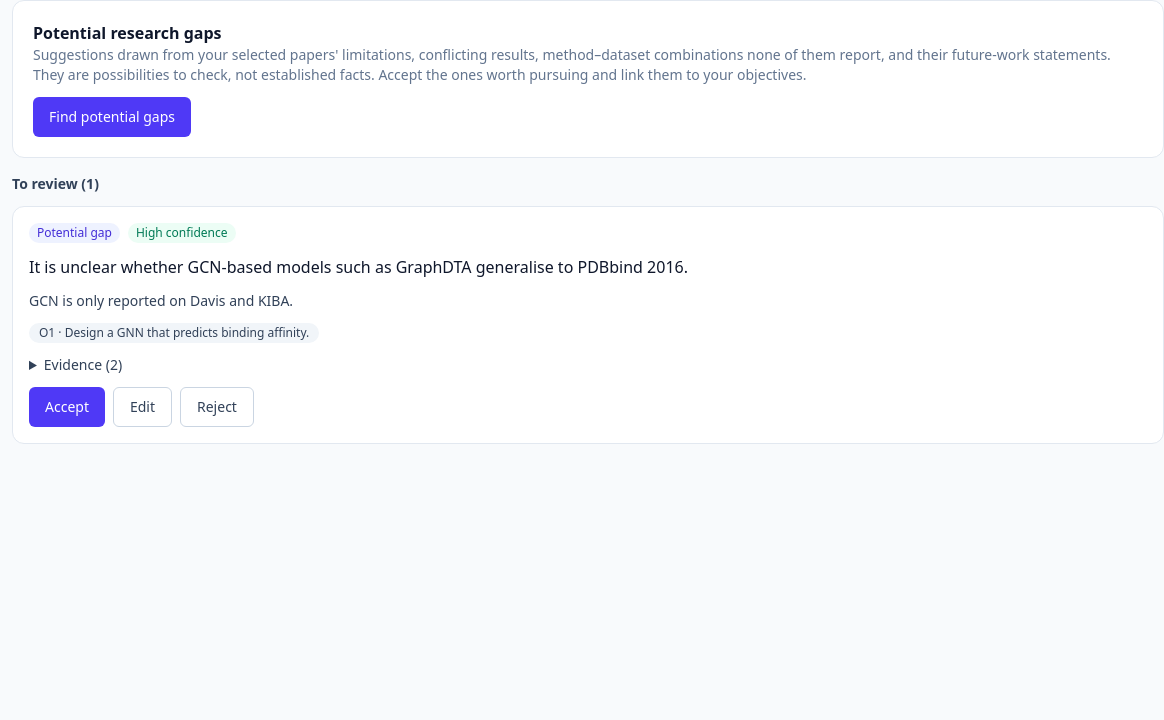
Test: GapsPanel › edits the wording, confidence and linked objectives
Click the button "Edit".
click(143, 407)  # box [113,387,172,427]
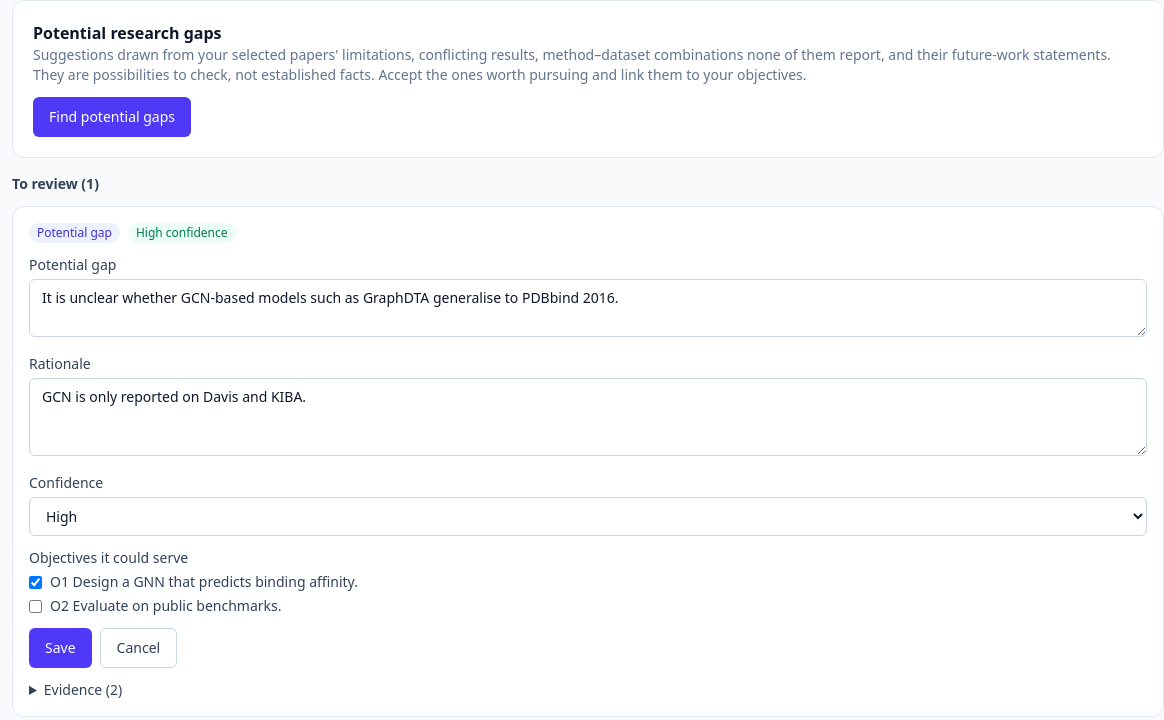
Replace the text in the text box labelled "Potential gap" with "Edited: may not generalise." at (588,308), box [29,279,1147,337]
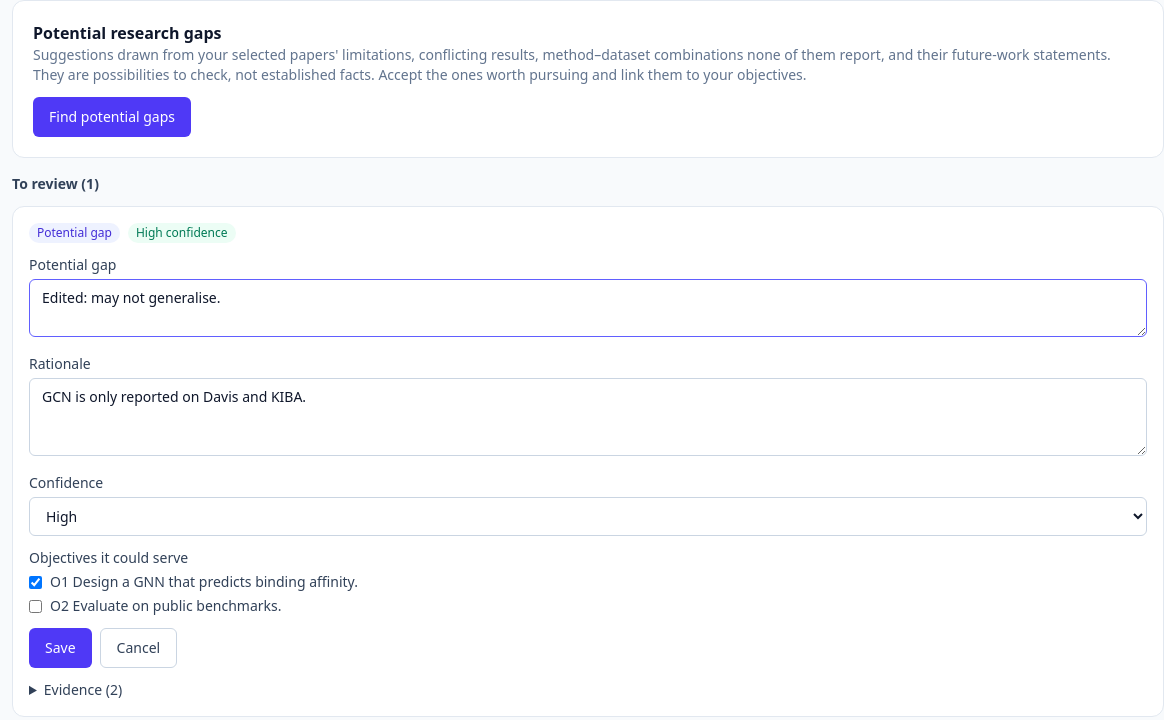
Select "Medium" in the dropdown labelled "Confidence" at (588,516), box [29,497,1147,536]
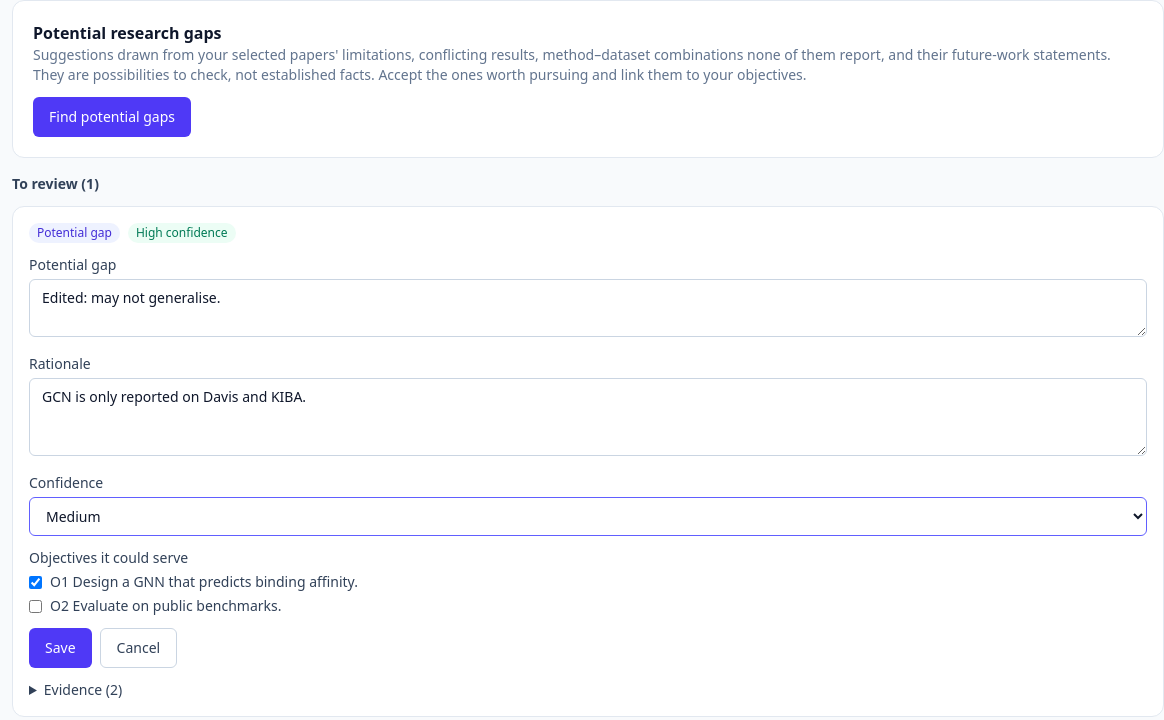
Click the checkbox labelled "O2 Evaluate on public benchmarks.".
click(36, 606)  # box [29,600,42,613]
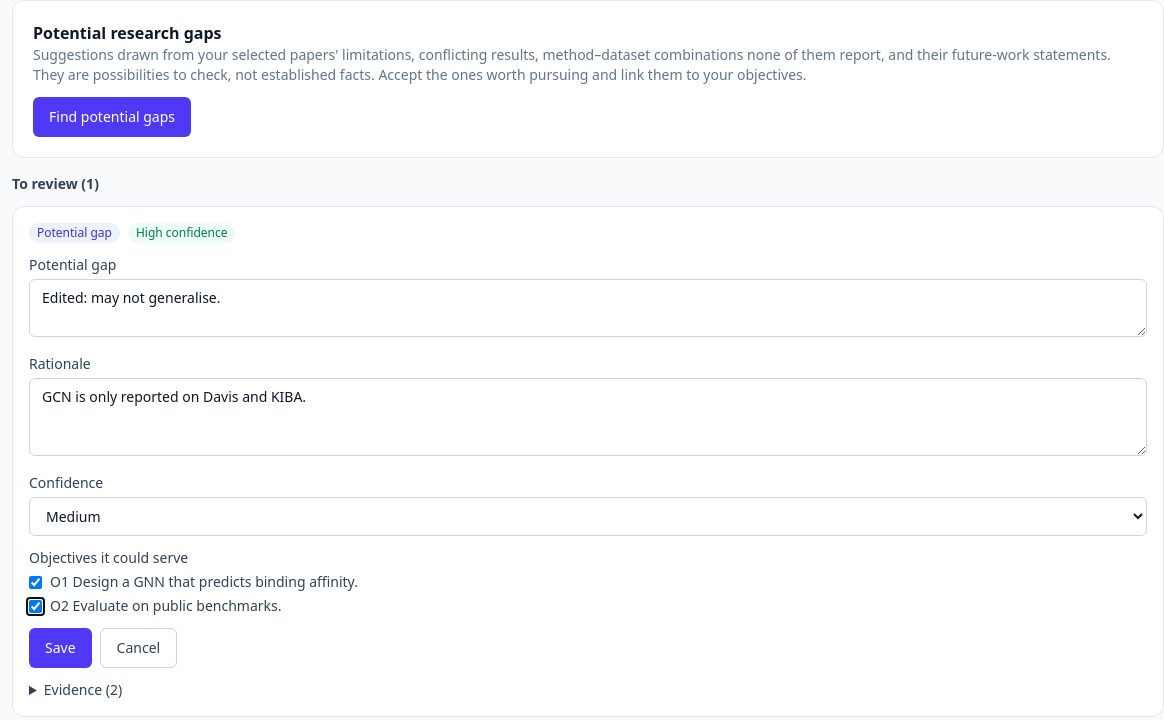
Click the checkbox labelled "O1 Design a GNN that predicts binding affinity.".
click(36, 582)  # box [29,576,42,589]
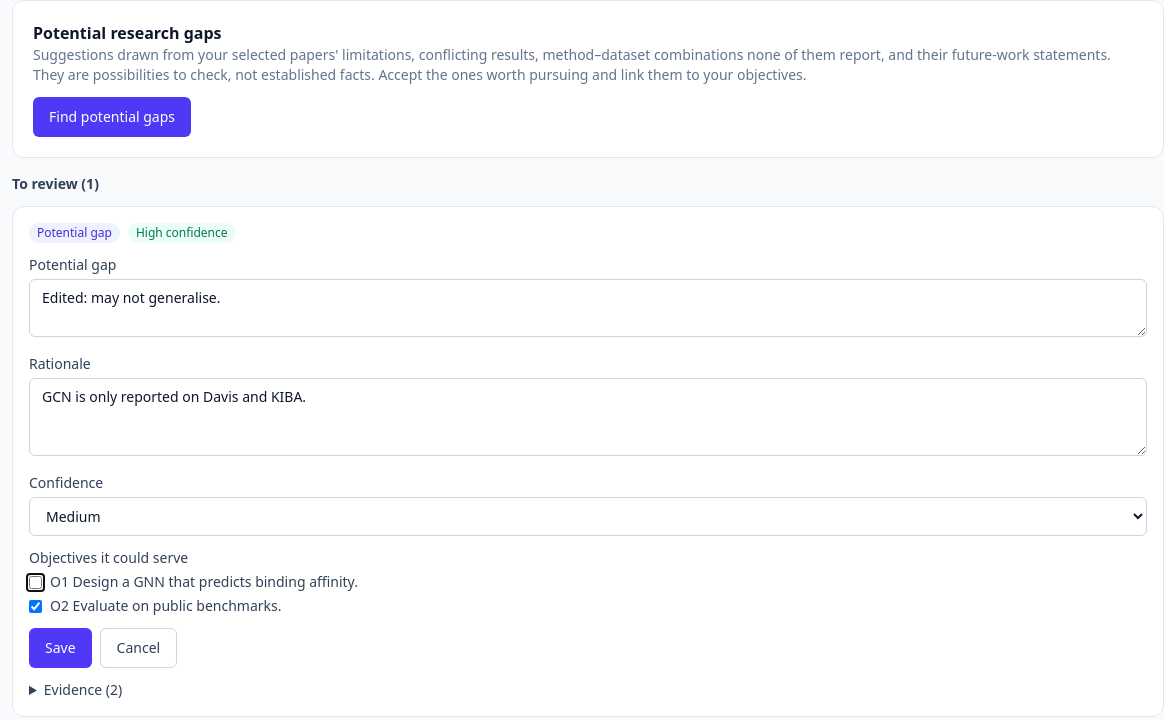
Click the button "Save".
click(60, 648)  # box [29,628,92,668]
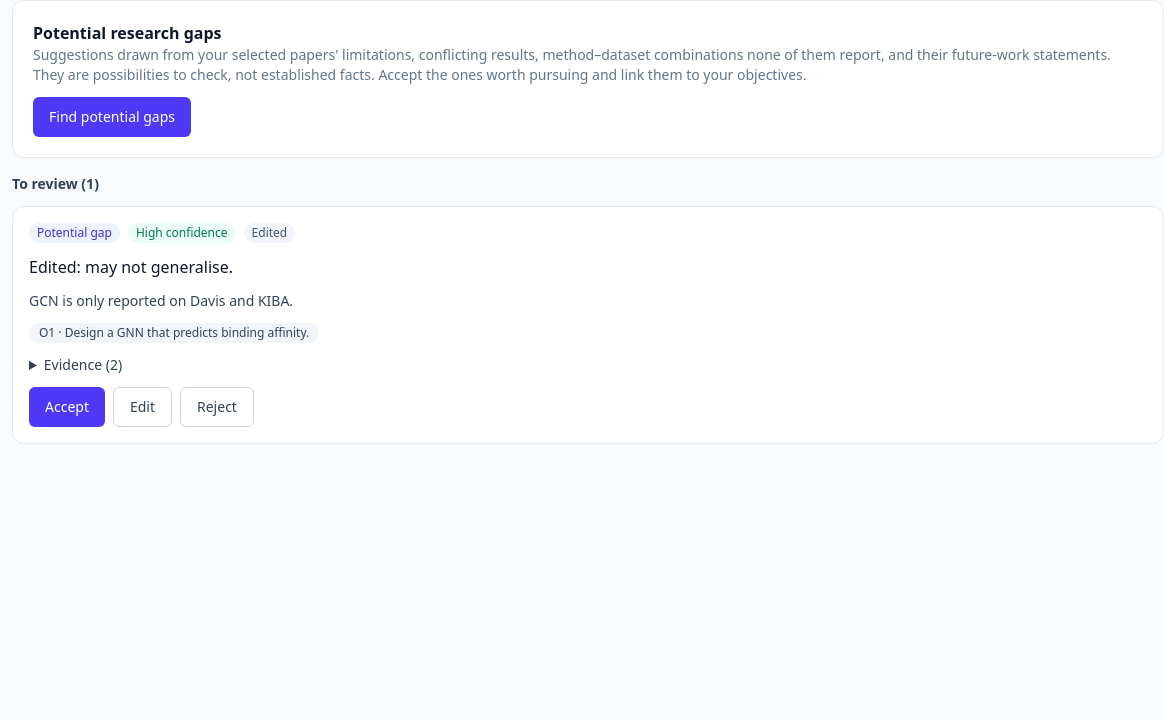
Now the text "Edited" is shown, box [244,223,295,243]
